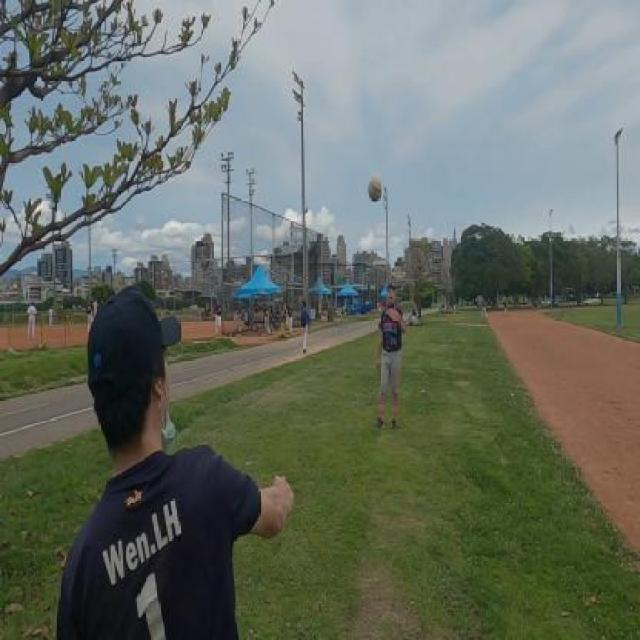baseball: (368, 177, 382, 203)
